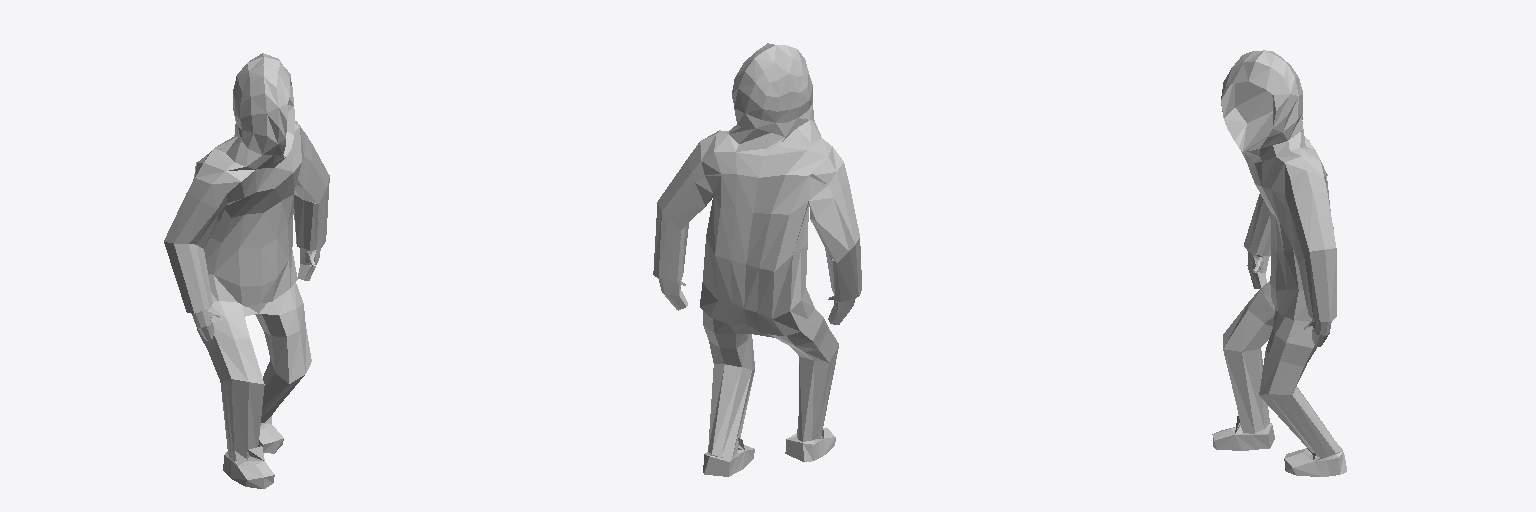
The model's file is Shadowmanv_000011.obj.
3 renders of one model, left to right at view 1: azimuth 30°, elevation 25°; view 2: azimuth 150°, elevation 25°; view 3: azimuth 270°, elevation 25°, orthographic.
Parts seen in each view (by area): view 1: Cube.000; view 2: Cube.000; view 3: Cube.000.
Boxes of the visible parts, x1=… form: Cube.000: x1=164, y1=53, x2=329, y2=488; Cube.000: x1=653, y1=43, x2=861, y2=476; Cube.000: x1=1212, y1=50, x2=1346, y2=476.
Size of the model in its own units: 5.14 by 11.22 by 3.34.